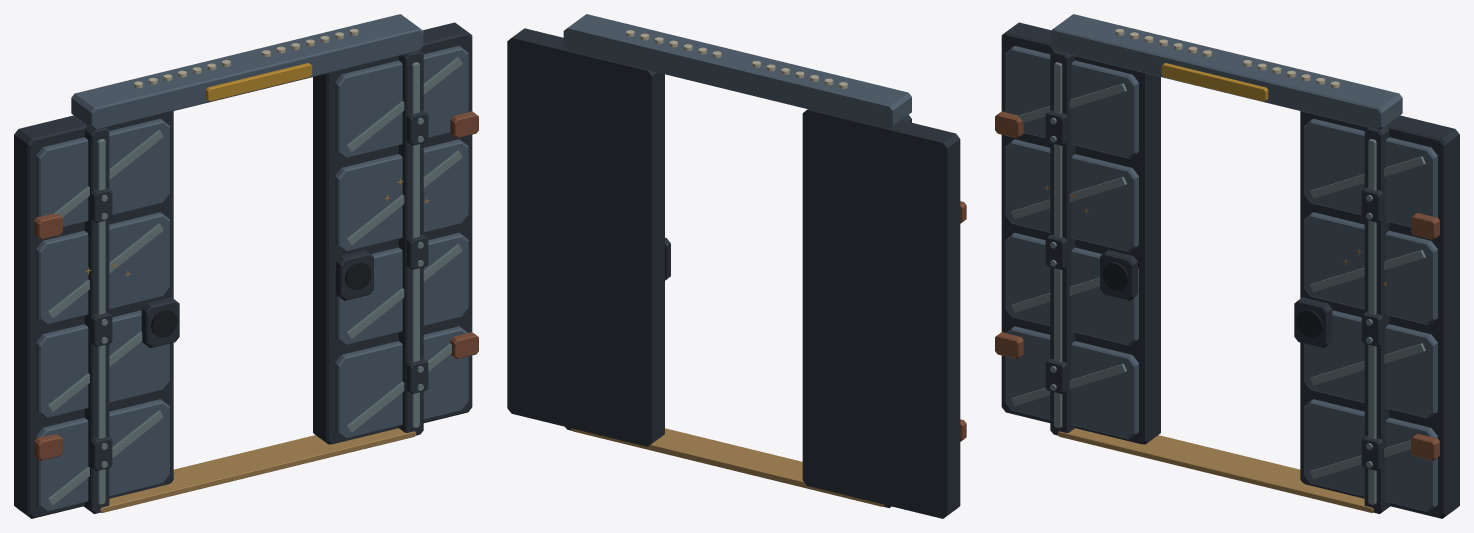
Rendered from A-13_well_gate_open.glb.
3 renders of one model, left to right at view 1: azimuth 30°, elevation 25°; view 2: azimuth 150°, elevation 25°; view 3: azimuth 330°, elevation 25°, orthographic.
Visible parts, largest first — view 1: A-13_well_gate_open; view 2: A-13_well_gate_open; view 3: A-13_well_gate_open.
Boxes of the visible parts, bbox=[...] form: A-13_well_gate_open: bbox=[14, 14, 478, 518]; A-13_well_gate_open: bbox=[507, 14, 966, 518]; A-13_well_gate_open: bbox=[995, 14, 1459, 518].
Size of the model in its own units: 2.89 by 2.54 by 0.297.
